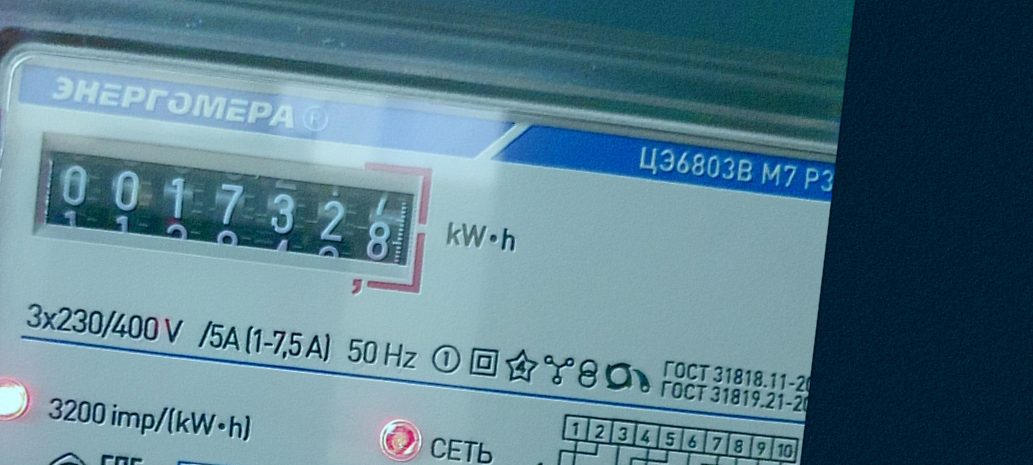0: (57, 161, 94, 209), (110, 165, 144, 213)
1: (164, 172, 190, 221)
2: (315, 196, 349, 244)
3: (267, 190, 299, 236)
7: (214, 180, 245, 229)
8: (362, 217, 393, 262)
screen: (19, 124, 442, 299)
